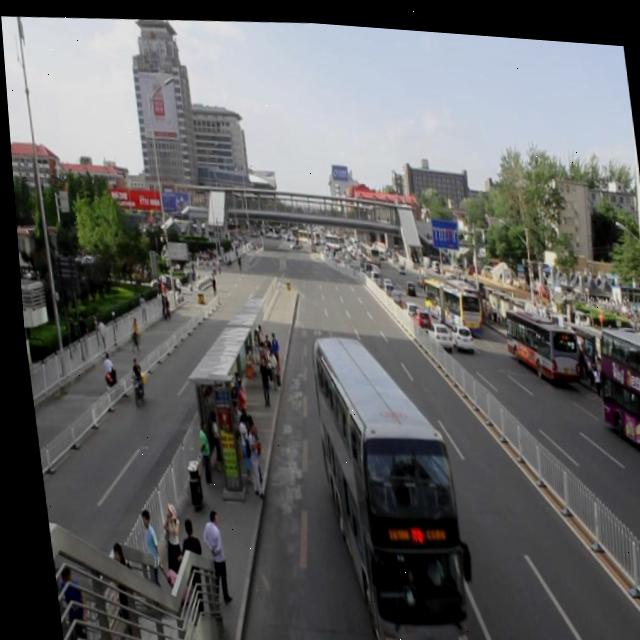van: (299, 321, 475, 640)
